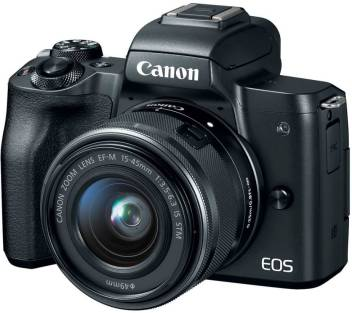kamera: (1, 1, 352, 308)
